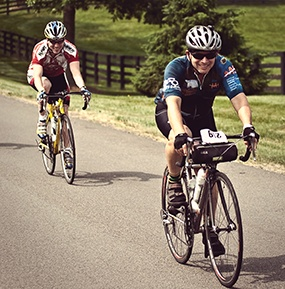helmet: (183, 22, 221, 74), (43, 17, 71, 54)
